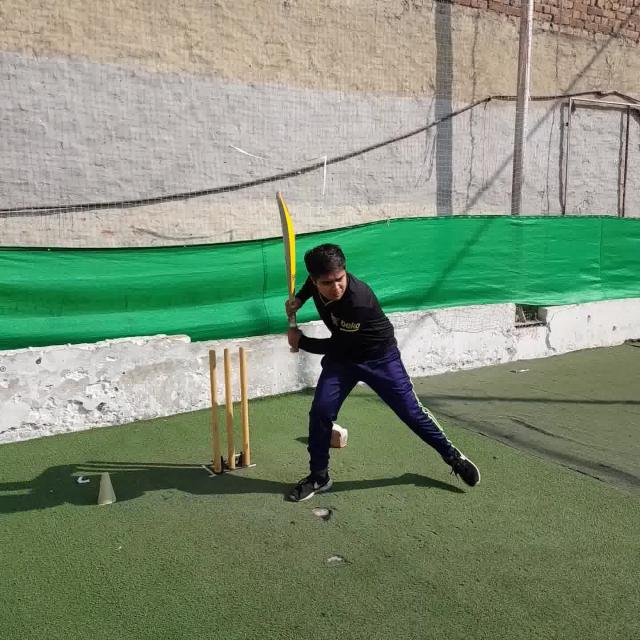bat: (274, 190, 302, 352)
